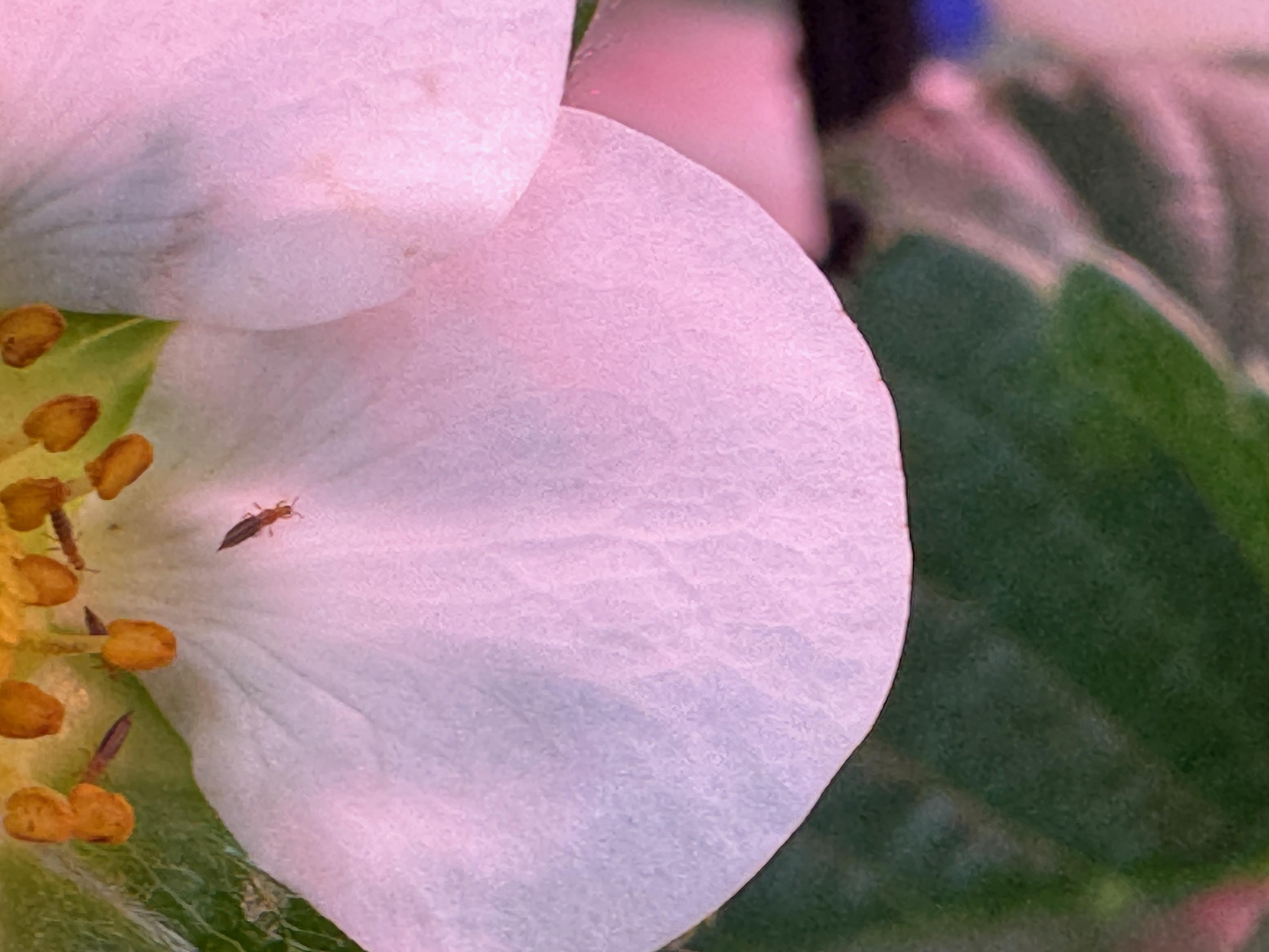tiny_pests: (189, 464, 334, 575), (66, 686, 164, 817), (27, 477, 113, 595)
